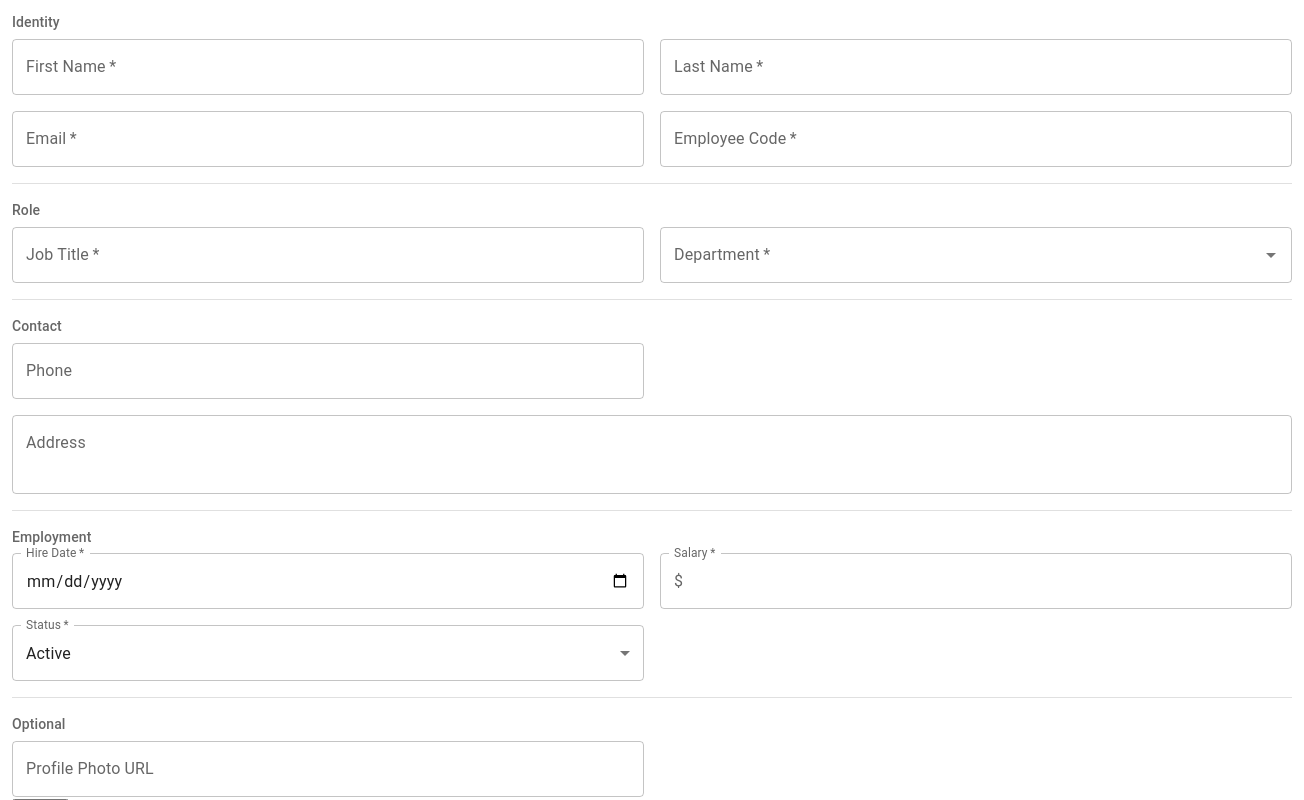
Scenario: EmployeeForm › renders status options in the select
Press the mouse on the dropdown named "employee status" at (48, 653), box [26,644,71,663]
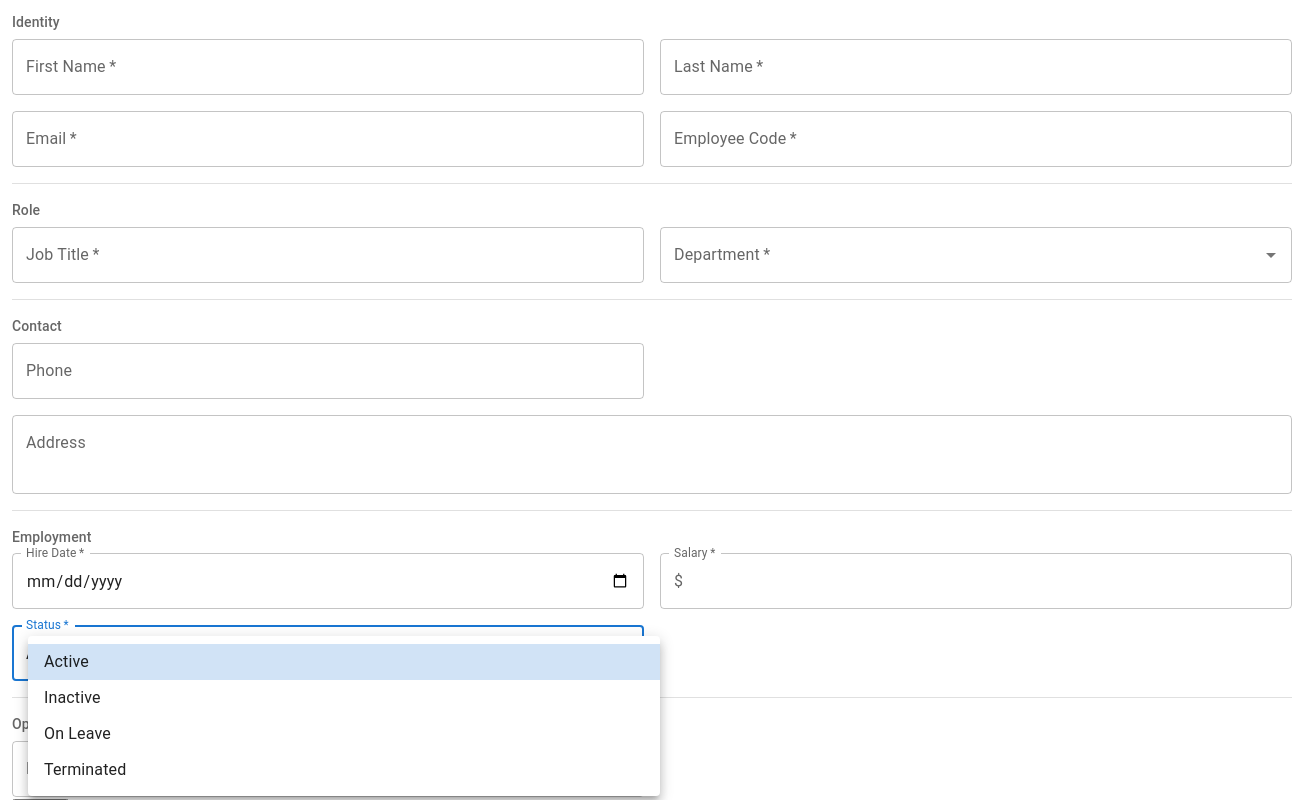
Expected: the option "Active" is shown, [28,644,660,680]
Expected: the option "Inactive" is shown, [44,688,101,707]
Expected: the option "On Leave" is shown, [44,724,111,743]
